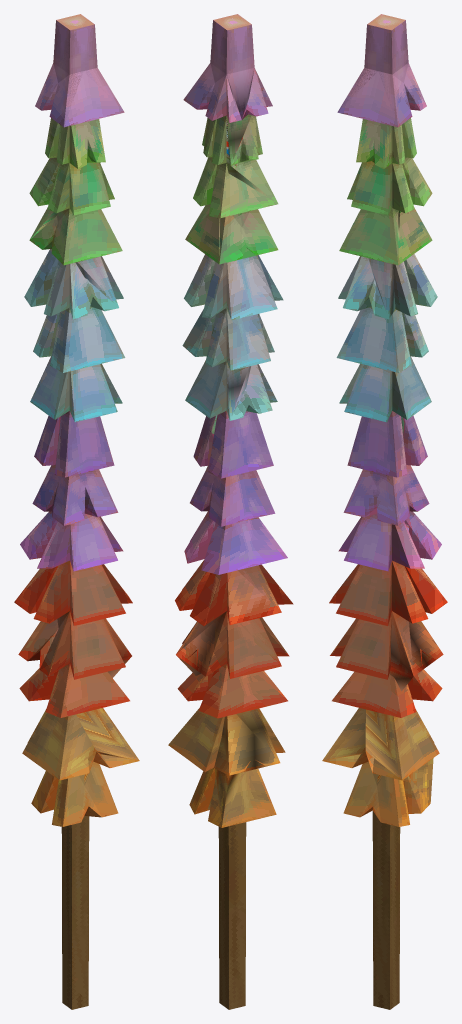
Rendered from item_pinata_bat.glb.
3 views of the same model, side by side, from view 1: azimuth 30°, elevation 25°; view 2: azimuth 210°, elevation 25°; view 3: azimuth 330°, elevation 25° (orthographic).
Parts seen in each view (by area): view 1: PinataBat; view 2: PinataBat; view 3: PinataBat.
Boxes of the visible parts, bbox=[...] form: PinataBat: bbox=[14, 14, 139, 1009]; PinataBat: bbox=[168, 14, 293, 1009]; PinataBat: bbox=[322, 14, 447, 1009].
Bounding box in the file's own units: 0.1198 × 1.19 × 0.1057.
1 material, 1 textured.
